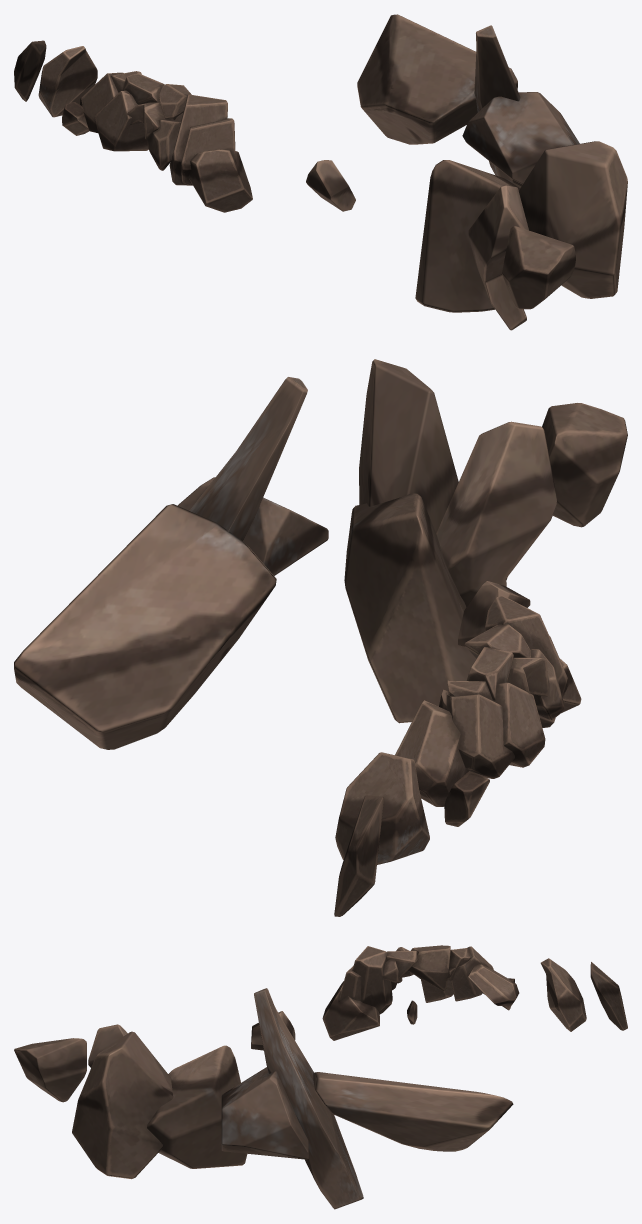
The model's file is Ocean_Rocks.fbx.
3 renders of one model, top to bottom at view 1: azimuth 30°, elevation 25°; view 2: azimuth 150°, elevation 25°; view 3: azimuth 270°, elevation 25°, orthographic. The views are drawn at different scales.
Visible parts, largest first — view 1: R4_Low_Poly4, R2_Low_Poly5, R2_Low_Poly3, R1_Low_Poly5, R5_Low_Poly5, R2_Low_Poly4, R1_Low_Poly2, R6_Low_Poly1, R6_Low_Poly2, R3_Low_Poly8, R3_Low_Poly12, R3_Low_Poly10 (+8 smaller); view 2: R2_Low_Poly5, R2_Low_Poly3, R5_Low_Poly5, R4_Low_Poly4, R2_Low_Poly4, R6_Low_Poly2, R6_Low_Poly1, R3_Low_Poly11, R1_Low_Poly5, R3_Low_Poly9, R4_Low_Poly2, R3_Low_Poly8 (+7 smaller); view 3: R4_Low_Poly4, R2_Low_Poly5, R6_Low_Poly2, R2_Low_Poly3, R1_Low_Poly5, R2_Low_Poly4, R6_Low_Poly1, R1_Low_Poly2, R3_Low_Poly12, R1_Low_Poly1, R3_Low_Poly11, R4_Low_Poly2 (+7 smaller).
Boxes of the visible parts, <box> form: R4_Low_Poly4: <box>518,141,627,298</box>; R2_Low_Poly5: <box>357,14,517,144</box>; R2_Low_Poly3: <box>415,160,521,312</box>; R1_Low_Poly5: <box>462,92,579,184</box>; R5_Low_Poly5: <box>468,185,528,330</box>; R2_Low_Poly4: <box>502,226,575,309</box>; R1_Low_Poly2: <box>188,149,252,212</box>; R6_Low_Poly1: <box>38,46,97,117</box>; R6_Low_Poly2: <box>474,25,522,186</box>; R3_Low_Poly8: <box>95,90,148,151</box>; R3_Low_Poly12: <box>169,94,227,185</box>; R3_Low_Poly10: <box>180,118,235,184</box>; R2_Low_Poly5: <box>14,504,276,749</box>; R2_Low_Poly3: <box>344,493,476,723</box>; R5_Low_Poly5: <box>436,421,556,606</box>; R4_Low_Poly4: <box>359,359,458,532</box>; R2_Low_Poly4: <box>542,403,627,527</box>; R6_Low_Poly2: <box>189,377,307,540</box>; R6_Low_Poly1: <box>335,752,429,864</box>; R3_Low_Poly11: <box>395,700,469,806</box>; R1_Low_Poly5: <box>177,477,328,575</box>; R3_Low_Poly9: <box>446,694,514,778</box>; R4_Low_Poly2: <box>334,795,383,916</box>; R3_Low_Poly8: <box>493,682,545,767</box>; R4_Low_Poly4: <box>72,1031,173,1179</box>; R2_Low_Poly5: <box>313,1072,513,1151</box>; R6_Low_Poly2: <box>254,988,363,1209</box>; R2_Low_Poly3: <box>147,1045,247,1168</box>; R1_Low_Poly5: <box>221,1067,308,1159</box>; R2_Low_Poly4: <box>14,1038,86,1102</box>; R6_Low_Poly1: <box>540,958,586,1031</box>; R1_Low_Poly2: <box>322,981,379,1040</box>; R3_Low_Poly12: <box>352,946,392,1014</box>; R1_Low_Poly1: <box>408,945,450,991</box>; R3_Low_Poly11: <box>468,963,519,1005</box>; R4_Low_Poly2: <box>590,962,627,1030</box>.
Size of the model in its own units: 207 by 131 by 359.
